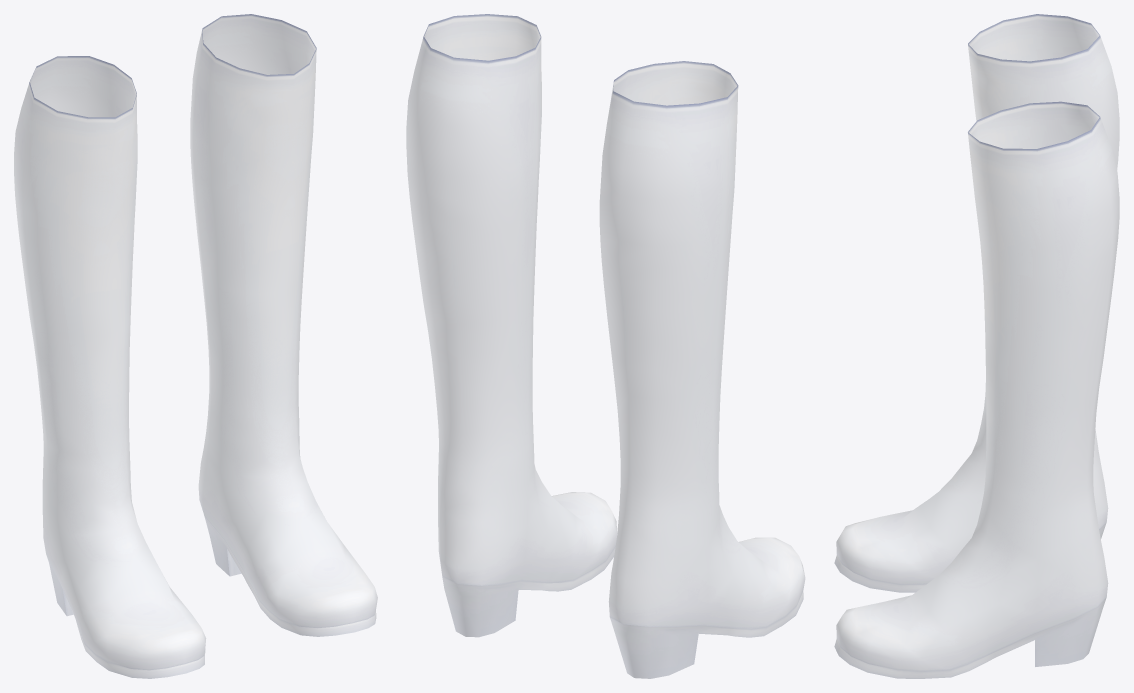
The model's file is boot-healer.glb.
3 renders of one model, left to right at view 1: azimuth 30°, elevation 25°; view 2: azimuth 150°, elevation 25°; view 3: azimuth 270°, elevation 25°, orthographic. The views are drawn at different scales.
Visible parts, largest first — view 1: boot-healer; view 2: boot-healer; view 3: boot-healer.
Boxes of the visible parts, x1=… form: boot-healer: x1=14, y1=14, x2=377, y2=678; boot-healer: x1=406, y1=14, x2=805, y2=678; boot-healer: x1=834, y1=14, x2=1119, y2=678.
Size of the model in its own units: 0.2847 by 0.5116 by 0.2452.
Materials: 1 (1 with a texture image).
